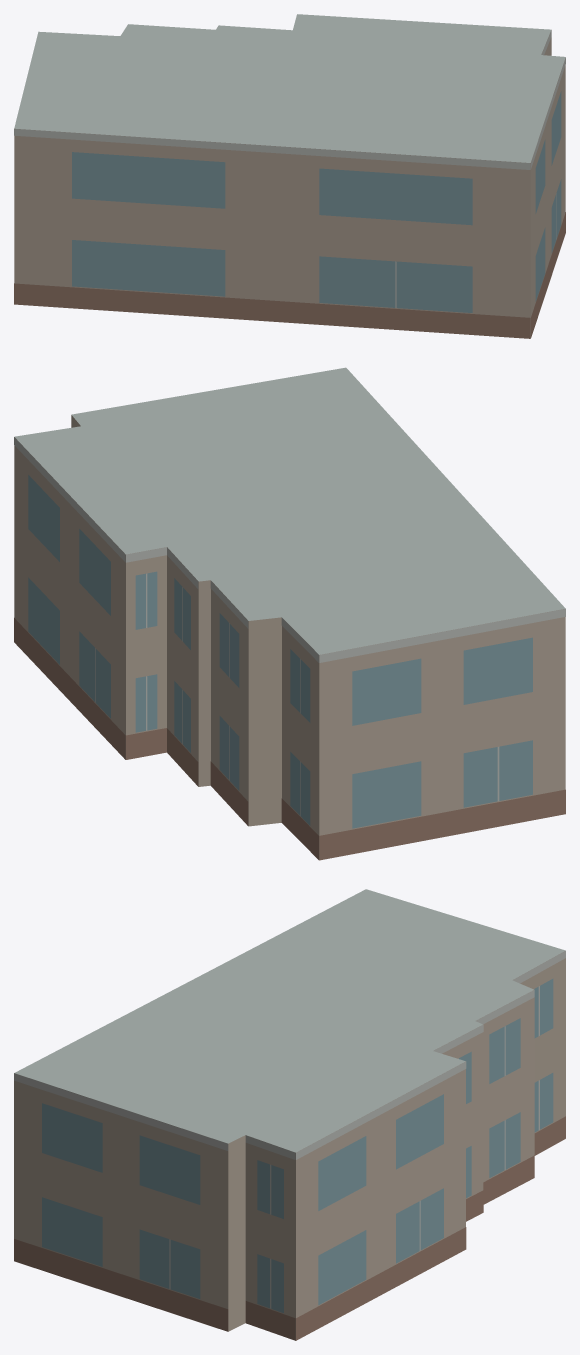
File: survey-upis-32983629.glb
3 renders of one model, top to bottom at view 1: azimuth 30°, elevation 25°; view 2: azimuth 150°, elevation 25°; view 3: azimuth 270°, elevation 25°, orthographic. The views are drawn at different scales.
Visible parts, largest first — view 1: survey-upis-32983629.tmp; view 2: survey-upis-32983629.tmp; view 3: survey-upis-32983629.tmp.
Boxes of the visible parts, x1,y1,x2,y2 form: survey-upis-32983629.tmp: (14, 14, 565, 338); survey-upis-32983629.tmp: (14, 367, 565, 860); survey-upis-32983629.tmp: (14, 889, 565, 1340).
Size of the model in its own units: 18.34 by 6.1 by 16.22.
